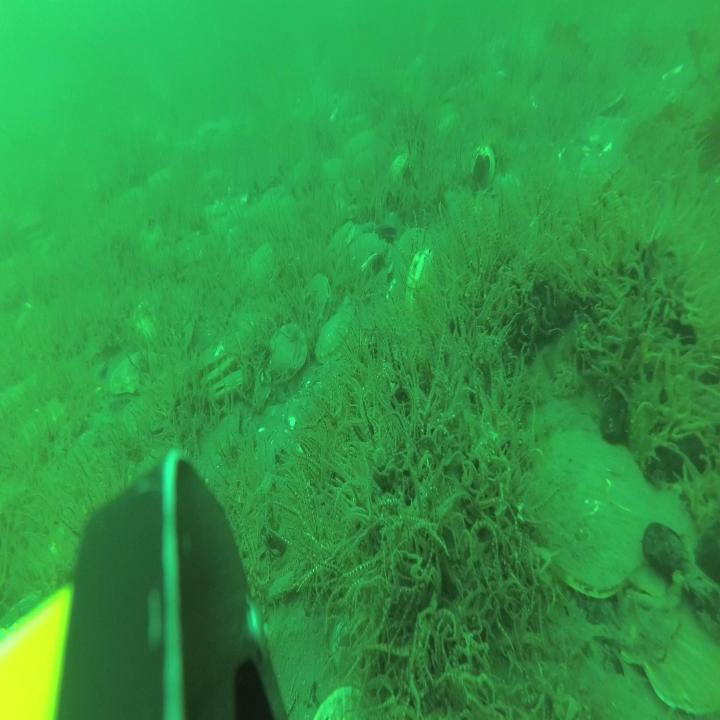scallop: (530, 430, 655, 600), (644, 571, 720, 718), (620, 486, 703, 604), (614, 564, 688, 661), (318, 302, 356, 362), (266, 326, 306, 382), (112, 347, 157, 394), (302, 272, 334, 330), (244, 248, 279, 299), (199, 344, 237, 387), (395, 228, 434, 266), (347, 236, 384, 276), (209, 373, 251, 407), (329, 220, 358, 258), (388, 147, 408, 193), (320, 155, 347, 184)
